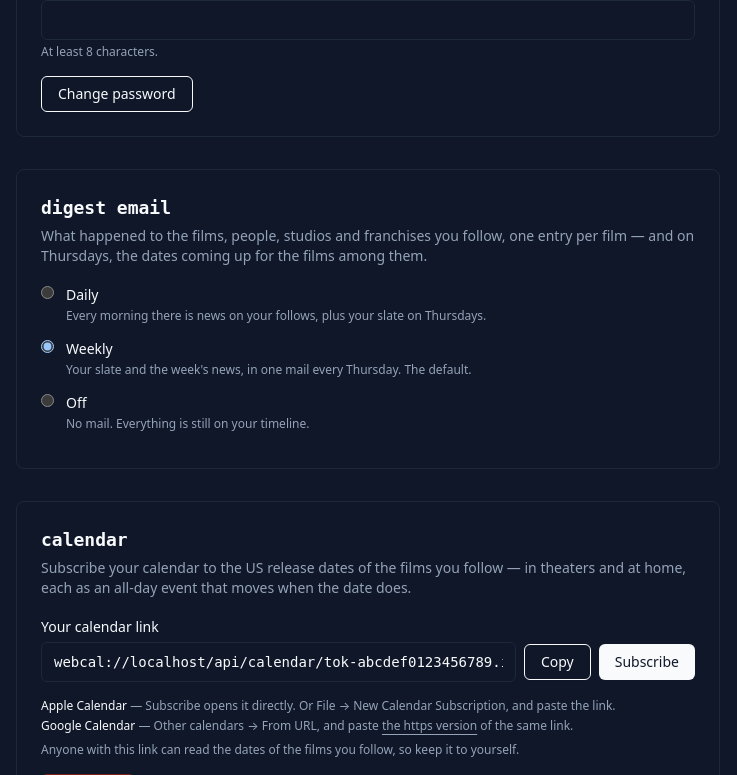
Settings › digest cadence › persists a change and reads it back
(page scrolled)
Expected: the radio button labelled "Weekly" is checked, [41,340,54,353]
Click the radio button labelled "Off". click: (48, 400)
box: [41,394,54,407]
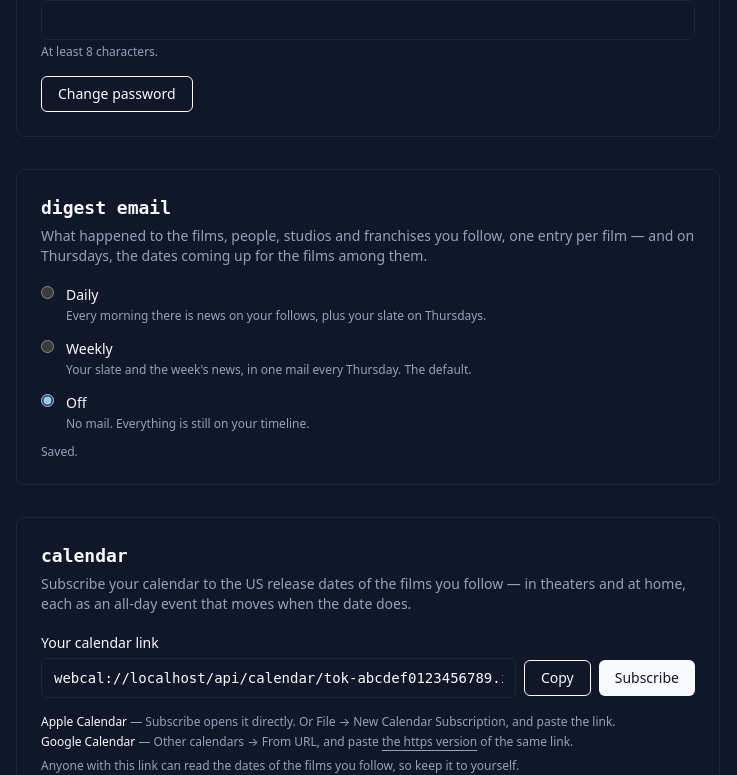
Result: the radio button labelled "Off" is checked at [41,394,54,407]
Result: the text "Saved." is shown at [41,443,78,460]
